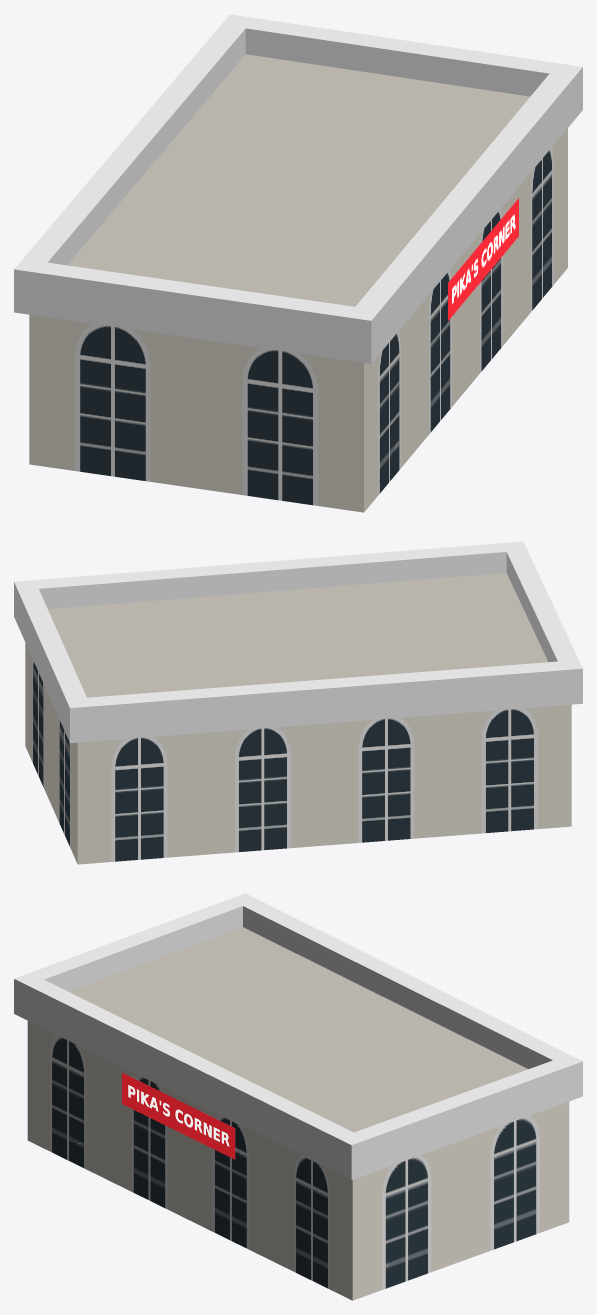
File: pikas.glb
The picture shows the model from 3 angles, top to bottom: view 1: azimuth 30°, elevation 25°; view 2: azimuth 150°, elevation 25°; view 3: azimuth 270°, elevation 25°; orthographic projection. The views are drawn at different scales.
Visible parts, largest first — view 1: pikas_lod0; view 2: pikas_lod0; view 3: pikas_lod0.
Boxes of the visible parts, <box> form: pikas_lod0: <box>14,14,582,512</box>; pikas_lod0: <box>14,541,582,864</box>; pikas_lod0: <box>14,893,582,1300</box>.
Size of what is drawn, in the model's own units: 15.41 by 4.6 by 14.7.
4 materials, 2 textured.
